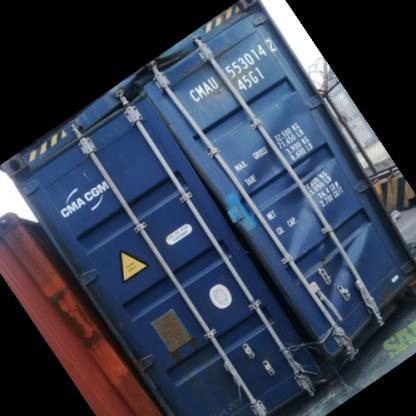Damage: (242, 105, 380, 369), (120, 44, 196, 106), (166, 336, 210, 384)
